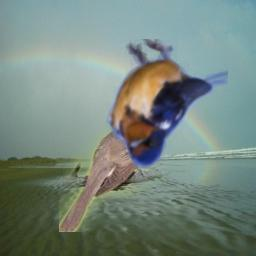Cuckoo: (59, 105, 175, 232)
Swallow: (106, 39, 228, 169)
